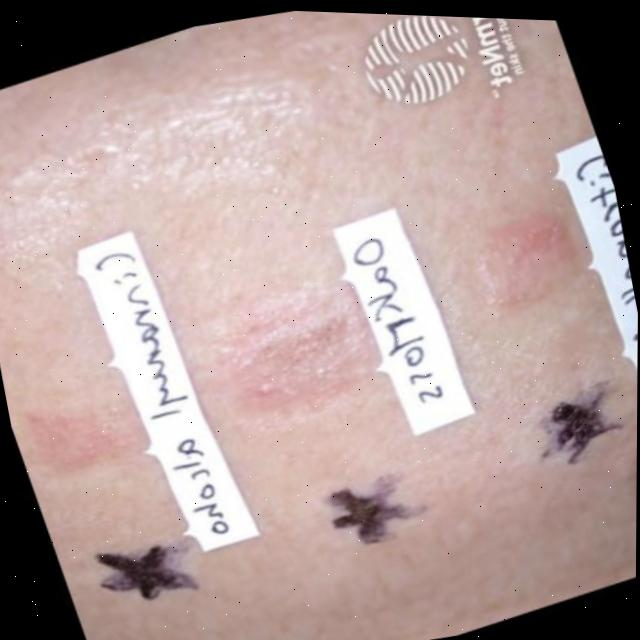Eczema: (236, 282, 366, 438), (461, 200, 583, 313), (48, 389, 147, 481)
